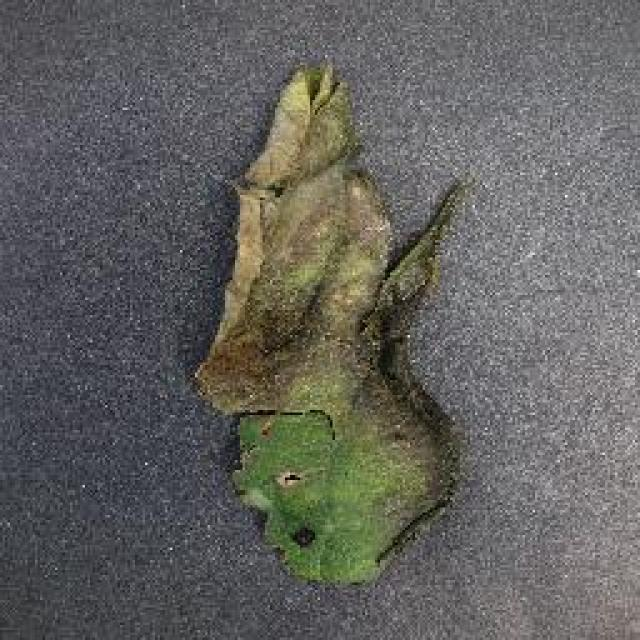Tomato late blight leaf: (205, 71, 485, 599)
